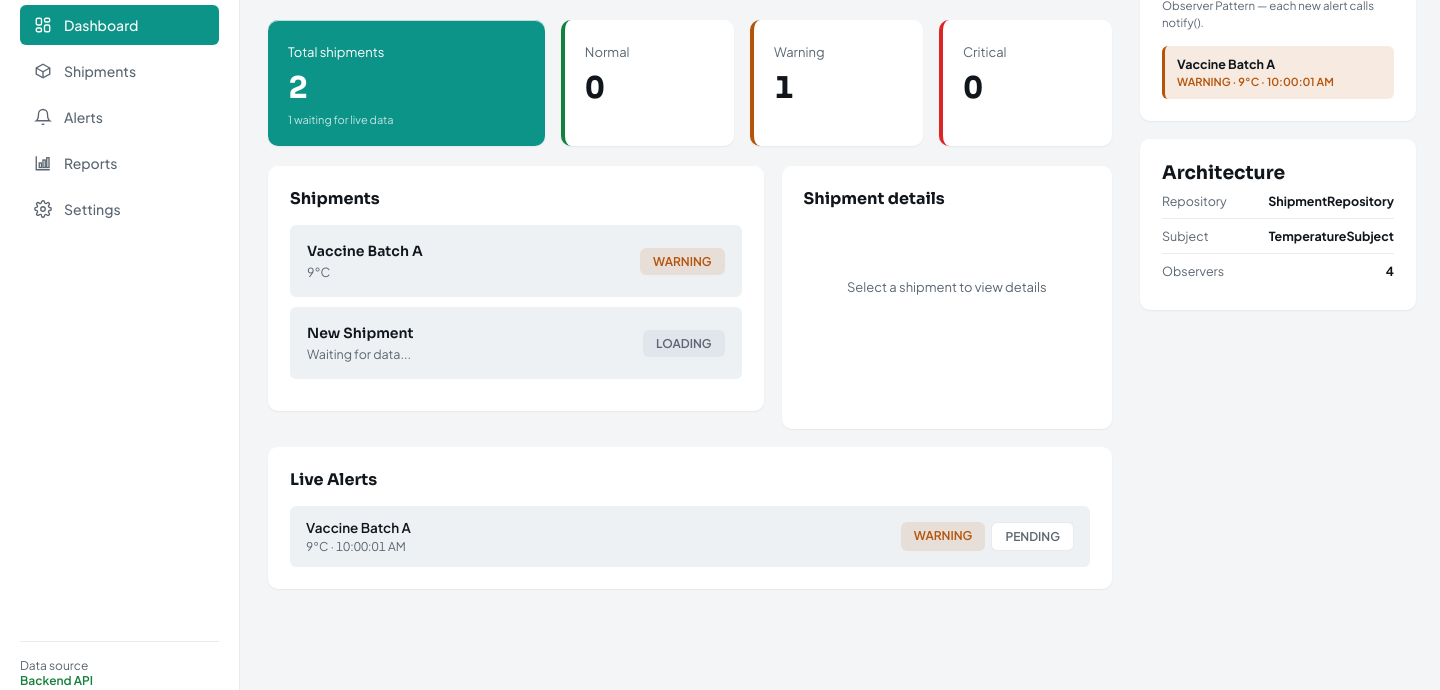
Scenario: records a response with alertId/action/note and keeps the measured temperature
The width and height of the screenshot is (1440, 690).
Click the heading "Vaccine Batch A": x=365, y=251 x1=307 y1=242 x2=423 y2=260
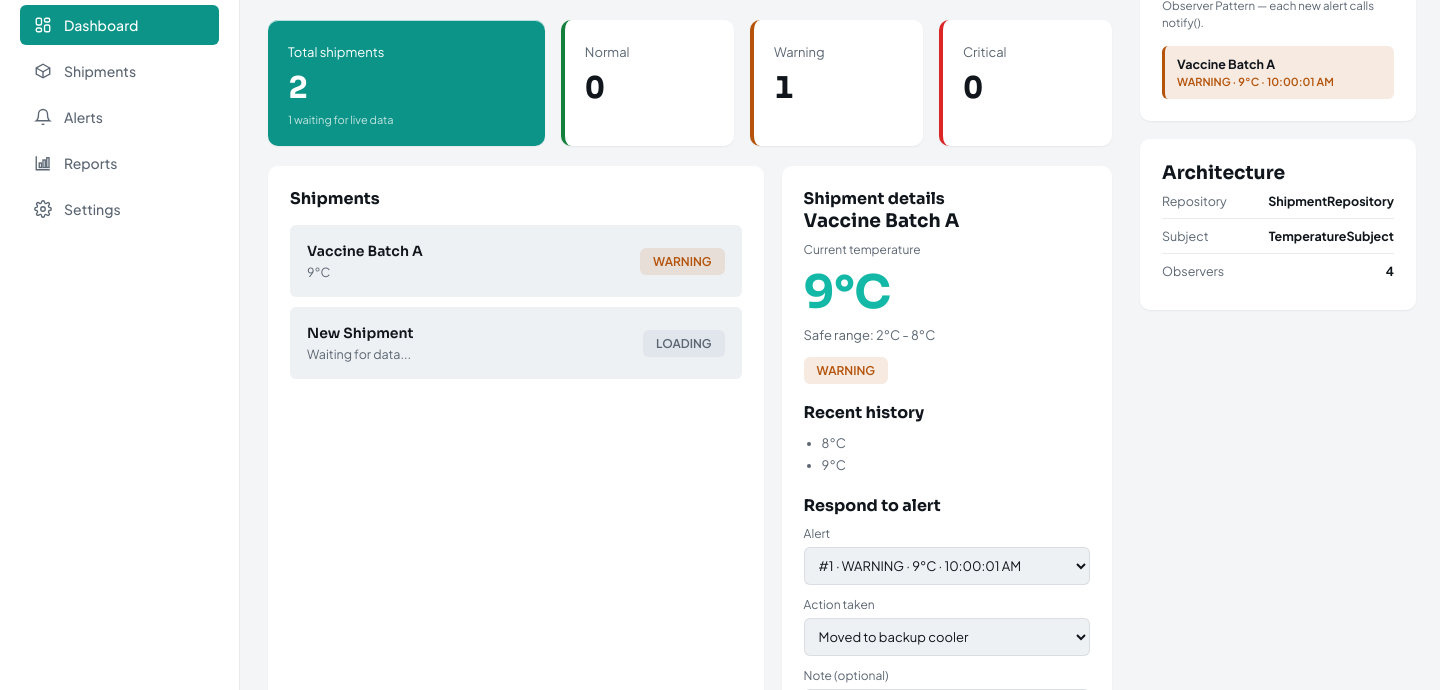
Expected: the heading with id "detailTemp" reads "9°C", x1=804 y1=263 x2=891 y2=321
Select "Contacted driver" in the dropdown labelled "Action taken": x=947, y=637 x1=804 y1=618 x2=1090 y2=656
(page scrolled)
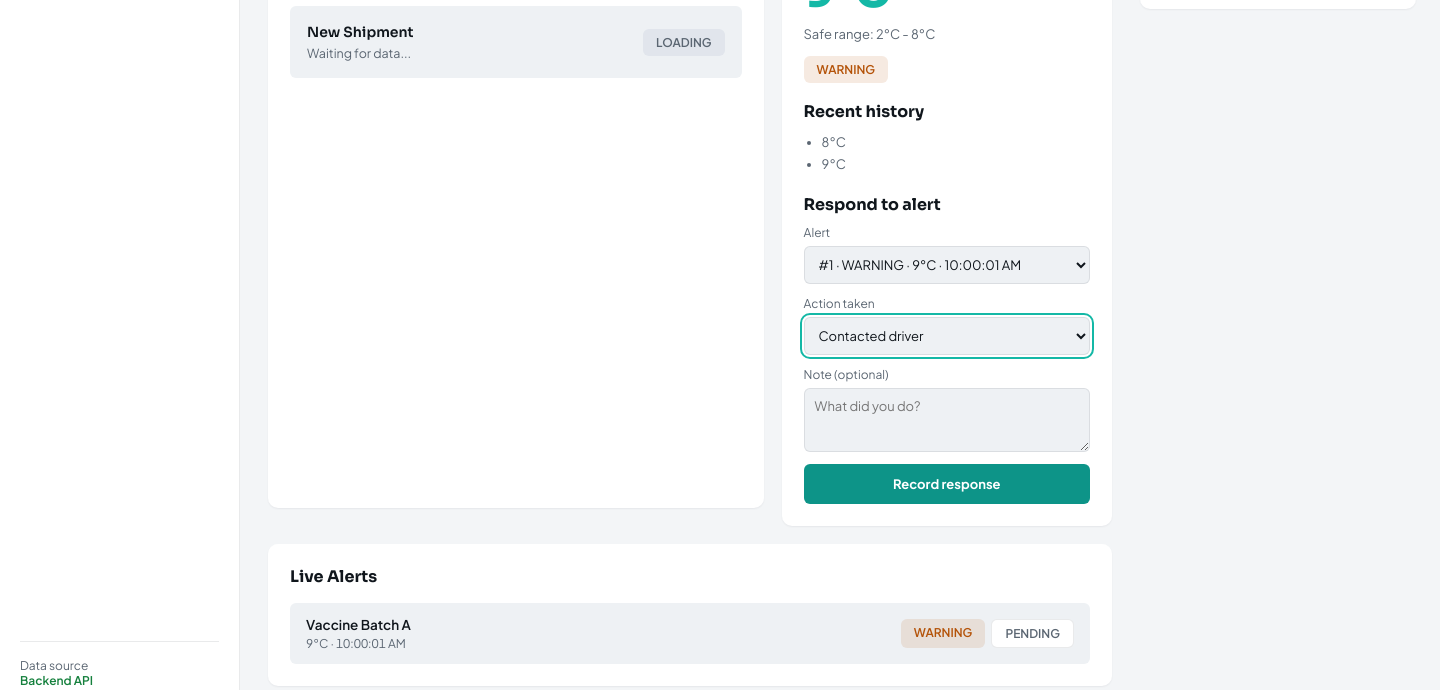
In the text box labelled "Note (optional)": x=947, y=420 x1=804 y1=388 x2=1090 y2=452, type "Called the driver"
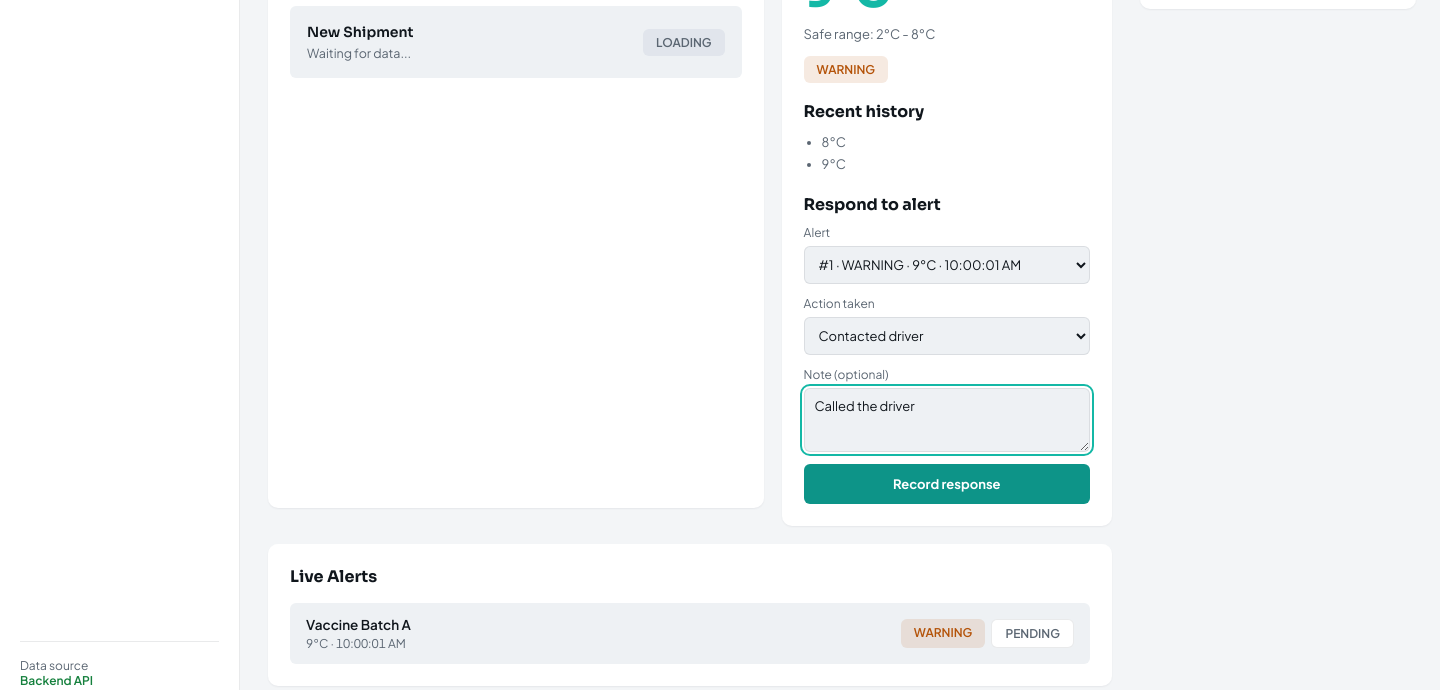
Click the button "Record response": x=947, y=484 x1=804 y1=464 x2=1090 y2=504
(page scrolled)
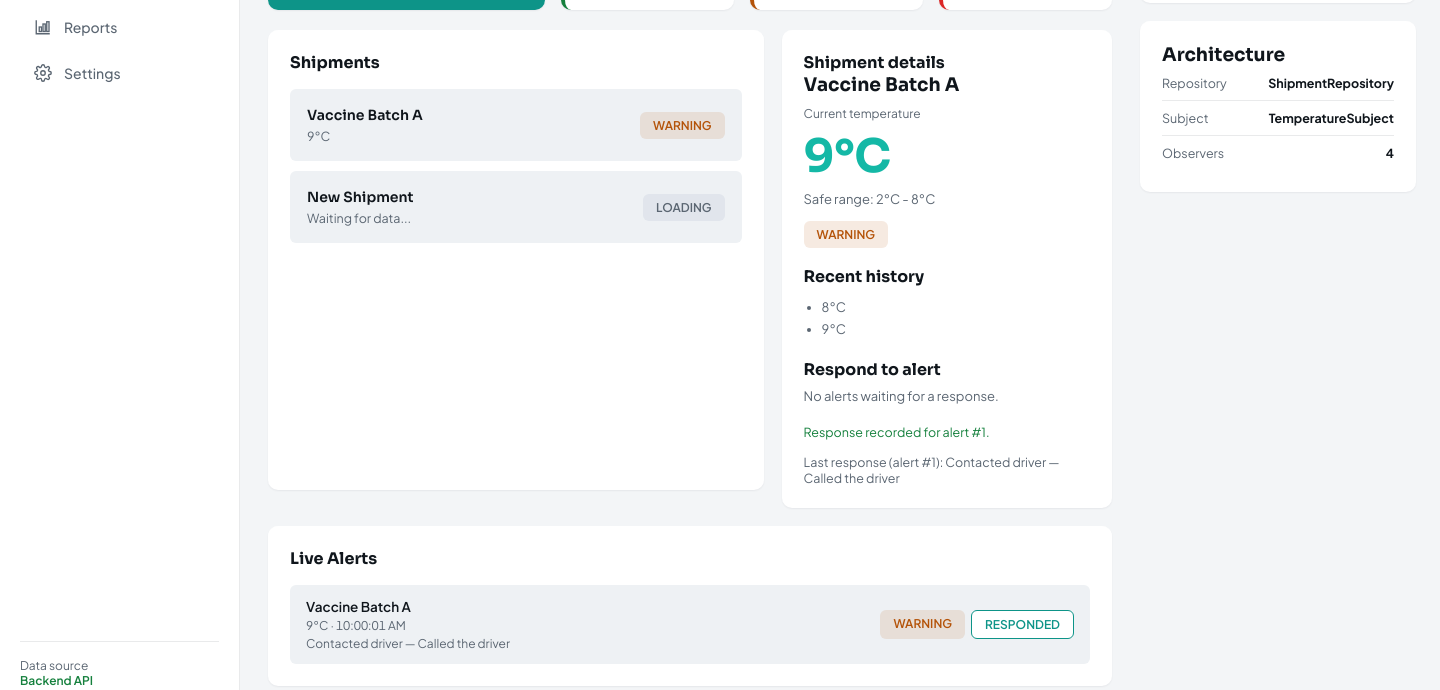
Expected: the heading with id "detailTemp" reads "9°C", x1=804 y1=127 x2=891 y2=185
Expected: the text "Response recorded for alert #1." is shown, x1=804 y1=424 x2=990 y2=440
Expected: the text "RESPONDED" is shown, x1=971 y1=610 x2=1074 y2=639
